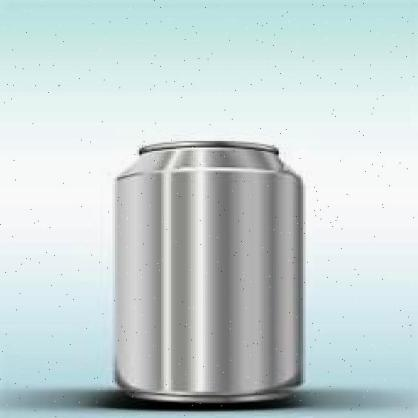can: (111, 138, 312, 407)
